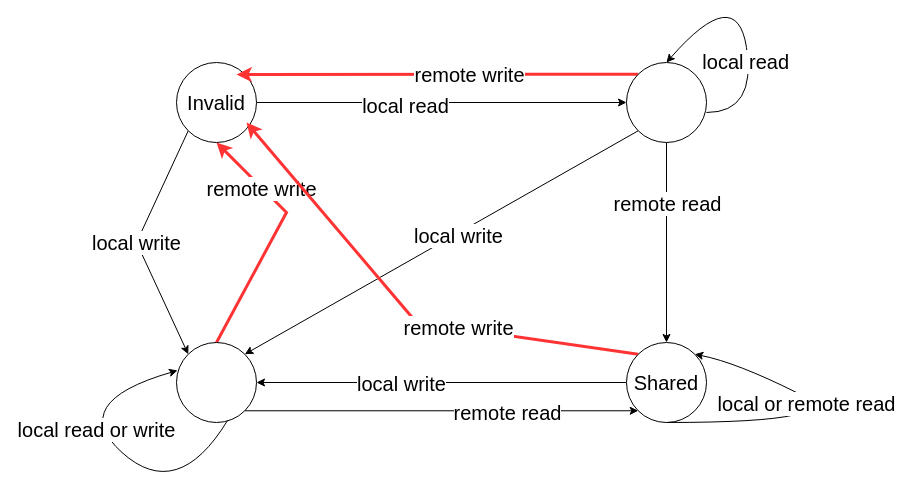
This 913x490 diagram has some shape labels left out. The centre of each missing label's shape, as x and y in pixels:
Exclusive: point 666,102
Modified: point 216,382
